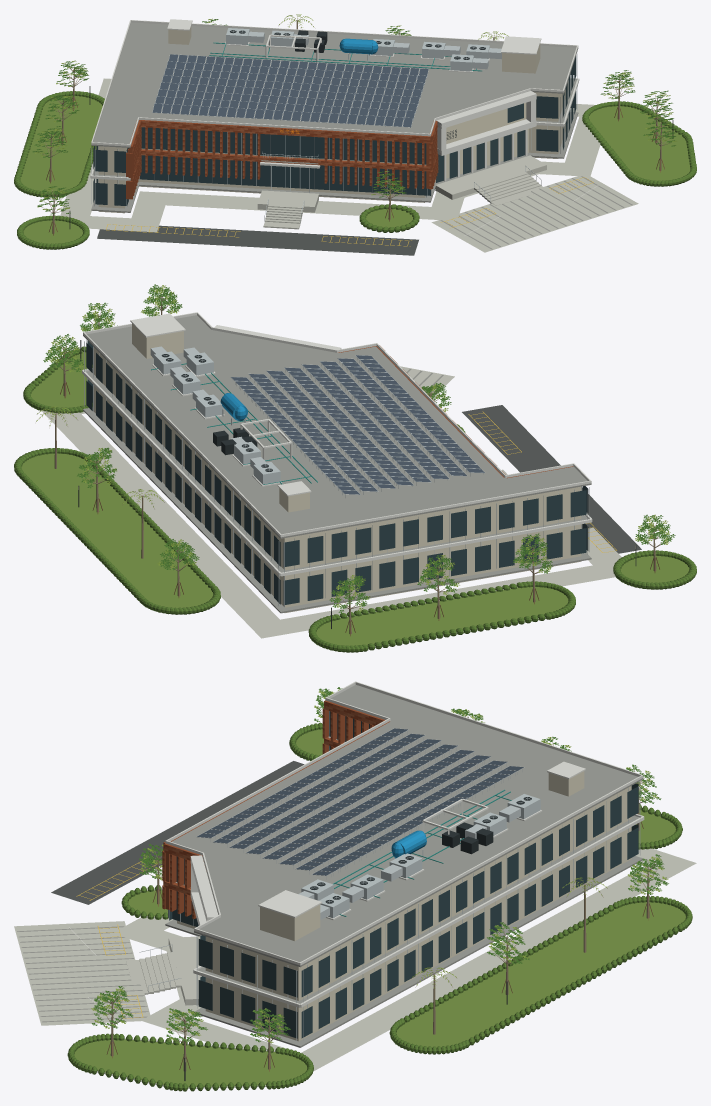
Rendered from canteen-lod1.glb.
3 views of the same model, one above another, from view 1: azimuth 30°, elevation 25°; view 2: azimuth 150°, elevation 25°; view 3: azimuth 270°, elevation 25° (orthographic). The views are drawn at different scales.
Parts seen in each view (by area): view 1: roof decks and floor slabs | roof.001, deep shaded canteen glazing | blue glass.001, tilted dark solar collector faces | solar.001, connected planted lawns | lawn.001, white folded wing and parapets | ivory metal.001, site perimeter paving | pale paving.001, internal drive and court paving | pale paving.001, continuous low hedges | hedge.001, cream service walls | plaster.001, thick terracotta sun fins | brick.001, internal drive and court paving | dark paving.001, collector aluminium frames and supports | silver metal.001 (+17 smaller); view 2: roof decks and floor slabs | roof.001, connected planted lawns | lawn.001, deep shaded canteen glazing | blue glass.001, cream service walls | plaster.001, tilted dark solar collector faces | solar.001, site perimeter paving | pale paving.001, continuous low hedges | hedge.001, white folded wing and parapets | ivory metal.001, collector aluminium frames and supports | silver metal.001, layered leaf canopy | leaf shadow.001, internal drive and court paving | dark paving.001, rooftop mechanical casings | mechanical.001 (+7 smaller); view 3: roof decks and floor slabs | roof.001, connected planted lawns | lawn.001, deep shaded canteen glazing | blue glass.001, cream service walls | plaster.001, tilted dark solar collector faces | solar.001, site perimeter paving | pale paving.001, white folded wing and parapets | ivory metal.001, internal drive and court paving | pale paving.001, continuous low hedges | hedge.001, collector aluminium frames and supports | silver metal.001, layered leaf canopy | leaf shadow.001, internal drive and court paving | dark paving.001 (+14 smaller).
Boxes of the visible parts, x1=… form: roof decks and floor slabs | roof.001: x1=91, y1=22, x2=578, y2=212; deep shaded canteen glazing | blue glass.001: x1=93, y1=55, x2=576, y2=205; tilted dark solar collector faces | solar.001: x1=152, y1=54, x2=428, y2=127; connected planted lawns | lawn.001: x1=20, y1=96, x2=690, y2=243; white folded wing and parapets | ivory metal.001: x1=90, y1=19, x2=579, y2=181; site perimeter paving | pale paving.001: x1=60, y1=78, x2=600, y2=232; internal drive and court paving | pale paving.001: x1=431, y1=176, x2=638, y2=252; continuous low hedges | hedge.001: x1=14, y1=91, x2=696, y2=249; cream service walls | plaster.001: x1=98, y1=26, x2=568, y2=213; thick terracotta sun fins | brick.001: x1=126, y1=120, x2=437, y2=199; internal drive and court paving | dark paving.001: x1=97, y1=225, x2=418, y2=255; collector aluminium frames and supports | silver metal.001: x1=152, y1=53, x2=428, y2=127; roof decks and floor slabs | roof.001: x1=83, y1=315, x2=591, y2=613; connected planted lawns | lawn.001: x1=21, y1=351, x2=689, y2=645; deep shaded canteen glazing | blue glass.001: x1=86, y1=341, x2=588, y2=604; cream service walls | plaster.001: x1=93, y1=323, x2=581, y2=612; tilted dark solar collector faces | solar.001: x1=231, y1=355, x2=484, y2=494; site perimeter paving | pale paving.001: x1=41, y1=410, x2=621, y2=638; continuous low hedges | hedge.001: x1=14, y1=346, x2=696, y2=652; white folded wing and parapets | ivory metal.001: x1=82, y1=312, x2=592, y2=576; collector aluminium frames and supports | silver metal.001: x1=222, y1=355, x2=484, y2=497; layered leaf canopy | leaf shadow.001: x1=43, y1=284, x2=675, y2=613; internal drive and court paving | dark paving.001: x1=462, y1=405, x2=641, y2=553; rooftop mechanical casings | mechanical.001: x1=154, y1=351, x2=280, y2=484; roof decks and floor slabs | roof.001: x1=165, y1=685, x2=643, y2=1047; connected planted lawns | lawn.001: x1=74, y1=729, x2=685, y2=1087; deep shaded canteen glazing | blue glass.001: x1=168, y1=711, x2=638, y2=1038; cream service walls | plaster.001: x1=177, y1=739, x2=631, y2=1041; tilted dark solar collector faces | solar.001: x1=197, y1=728, x2=523, y2=875; site perimeter paving | pale paving.001: x1=112, y1=848, x2=696, y2=1070; white folded wing and parapets | ivory metal.001: x1=165, y1=681, x2=644, y2=1007; internal drive and court paving | pale paving.001: x1=14, y1=921, x2=150, y2=1025; continuous low hedges | hedge.001: x1=67, y1=722, x2=692, y2=1091; collector aluminium frames and supports | silver metal.001: x1=196, y1=728, x2=524, y2=879; layered leaf canopy | leaf shadow.001: x1=91, y1=687, x2=668, y2=1044; internal drive and court paving | dark paving.001: x1=51, y1=761, x2=304, y2=904.
Size of the model in its own units: 110 by 16.14 by 85.87.
